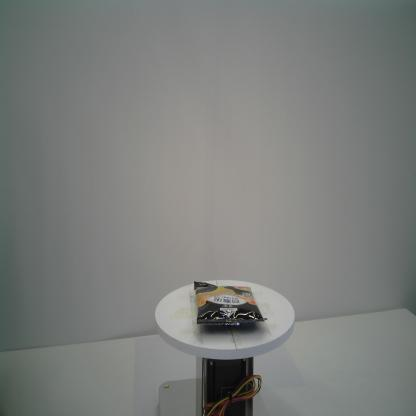Instant Drink: (193, 280, 268, 326)
